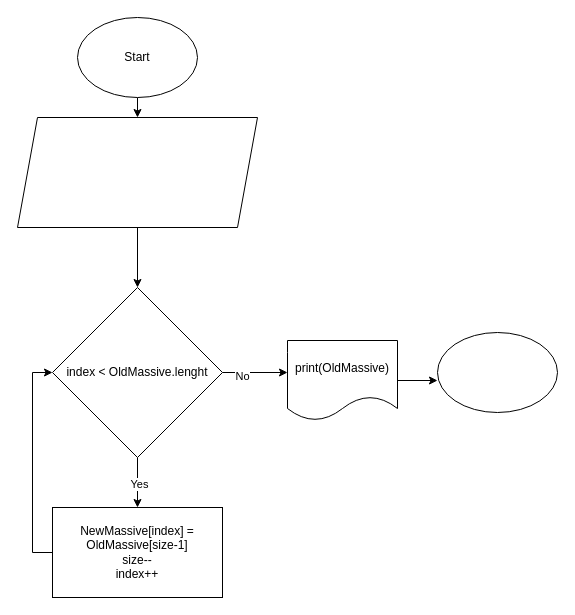
Image size: 575x615. Some labels were removed from this diagram. Each missing label, with the centre of its shape:
End: [497,372]
OldMassive - [] NewMassive = [] index = 0 size = OldMassive.lenght: [137,172]
